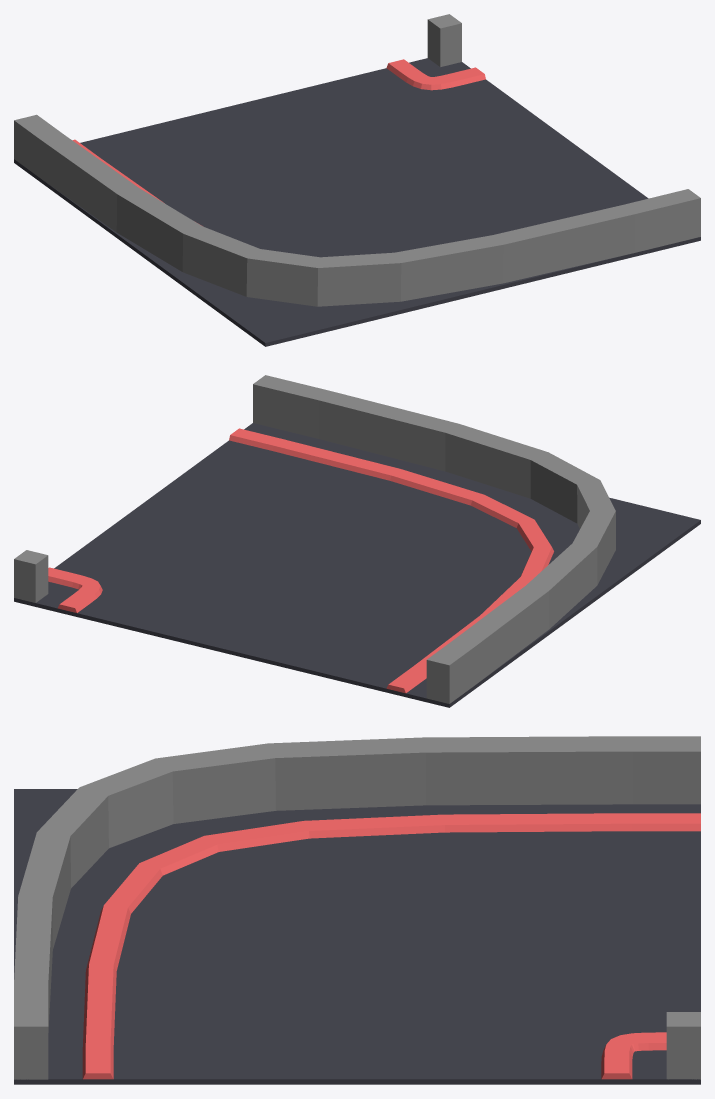
File: kartkids_base_trk_020_trn_90_l_1x1.glb
The picture shows the model from 3 angles, top to bottom: view 1: azimuth 30°, elevation 25°; view 2: azimuth 150°, elevation 25°; view 3: azimuth 270°, elevation 25°; orthographic projection. The views are drawn at different scales.
Parts seen in each view (by area): view 1: kartkids_base_trk_020_trn_90_l_1x1, kartkids_base_trk_020_trn_90_l_1x1.001, kartkids_base_trk_020_trn_90_l_1x1.004; view 2: kartkids_base_trk_020_trn_90_l_1x1, kartkids_base_trk_020_trn_90_l_1x1.001, kartkids_base_trk_010_rd_straight_1x1.079, kartkids_base_trk_020_trn_90_l_1x1.004; view 3: kartkids_base_trk_020_trn_90_l_1x1, kartkids_base_trk_020_trn_90_l_1x1.001, kartkids_base_trk_010_rd_straight_1x1.079, kartkids_base_trk_020_trn_90_l_1x1.004.
Boxes of the visible parts, <box> form: kartkids_base_trk_020_trn_90_l_1x1: <box>14,58,700,346</box>; kartkids_base_trk_020_trn_90_l_1x1.001: <box>14,114,700,306</box>; kartkids_base_trk_020_trn_90_l_1x1.004: <box>427,14,461,66</box>; kartkids_base_trk_020_trn_90_l_1x1: <box>14,423,700,707</box>; kartkids_base_trk_020_trn_90_l_1x1.001: <box>253,375,615,703</box>; kartkids_base_trk_010_rd_straight_1x1.079: <box>229,428,553,693</box>; kartkids_base_trk_020_trn_90_l_1x1.004: <box>14,550,48,602</box>; kartkids_base_trk_020_trn_90_l_1x1: <box>14,789,700,1084</box>; kartkids_base_trk_020_trn_90_l_1x1.001: <box>14,736,700,1079</box>; kartkids_base_trk_010_rd_straight_1x1.079: <box>82,813,700,1079</box>; kartkids_base_trk_020_trn_90_l_1x1.004: <box>666,1012,700,1079</box>.
Bounding box in the file's own units: 10 × 0.9339 × 10.
